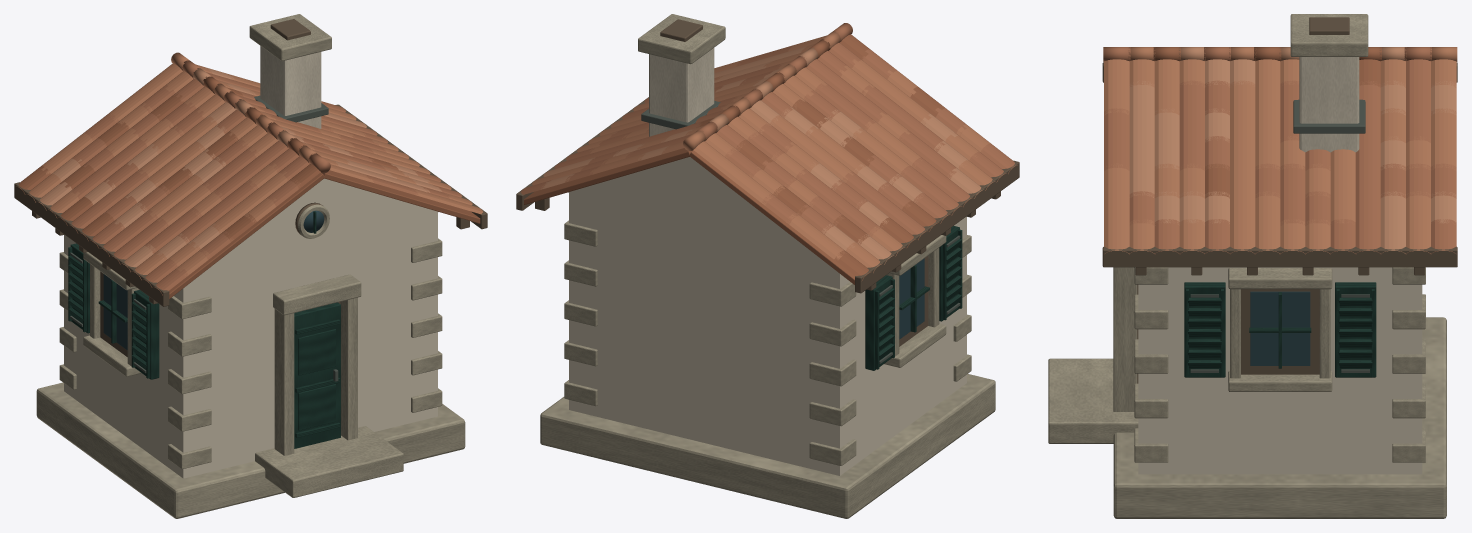
Rendered from coastal-cottage.glb.
3 views of the same model, side by side, from view 1: azimuth 30°, elevation 25°; view 2: azimuth 150°, elevation 25°; view 3: azimuth 270°, elevation 25° (orthographic). The views are drawn at different scales.
Visible parts, largest first — view 1: CoastalCottageShell, CottageWindowPanes; view 2: CoastalCottageShell, CottageWindowPanes; view 3: CoastalCottageShell, CottageWindowPanes.
Part boxes in pixels (box(x1,y1,x2,y2)): CoastalCottageShell: box(14, 14, 487, 518); CottageWindowPanes: box(103, 210, 324, 350); CoastalCottageShell: box(516, 14, 1019, 518); CottageWindowPanes: box(899, 258, 924, 339); CoastalCottageShell: box(1048, 14, 1457, 518); CottageWindowPanes: box(1250, 291, 1310, 365).
Size of the model in its own units: 0.4086 by 0.452 by 0.375.
Materials: 10 (3 with a texture image).
